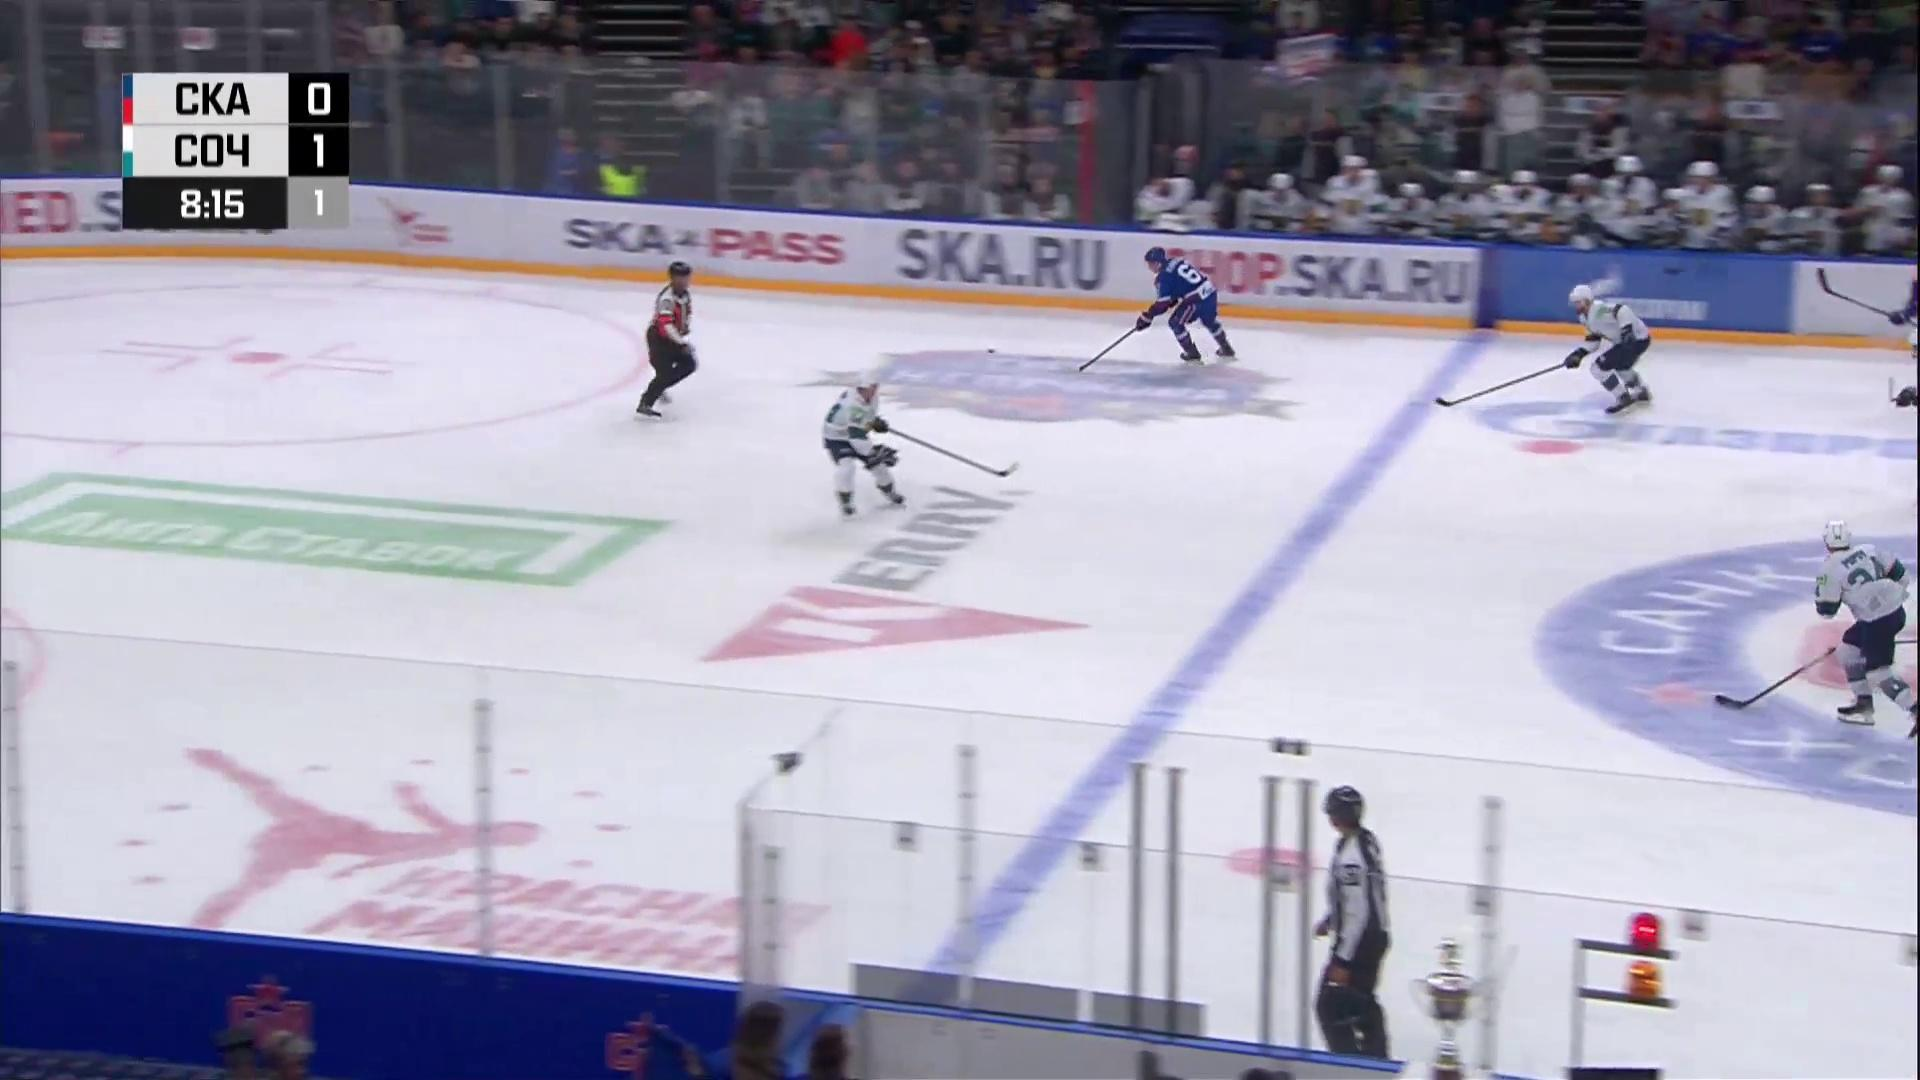ball: (986, 348, 996, 353)
